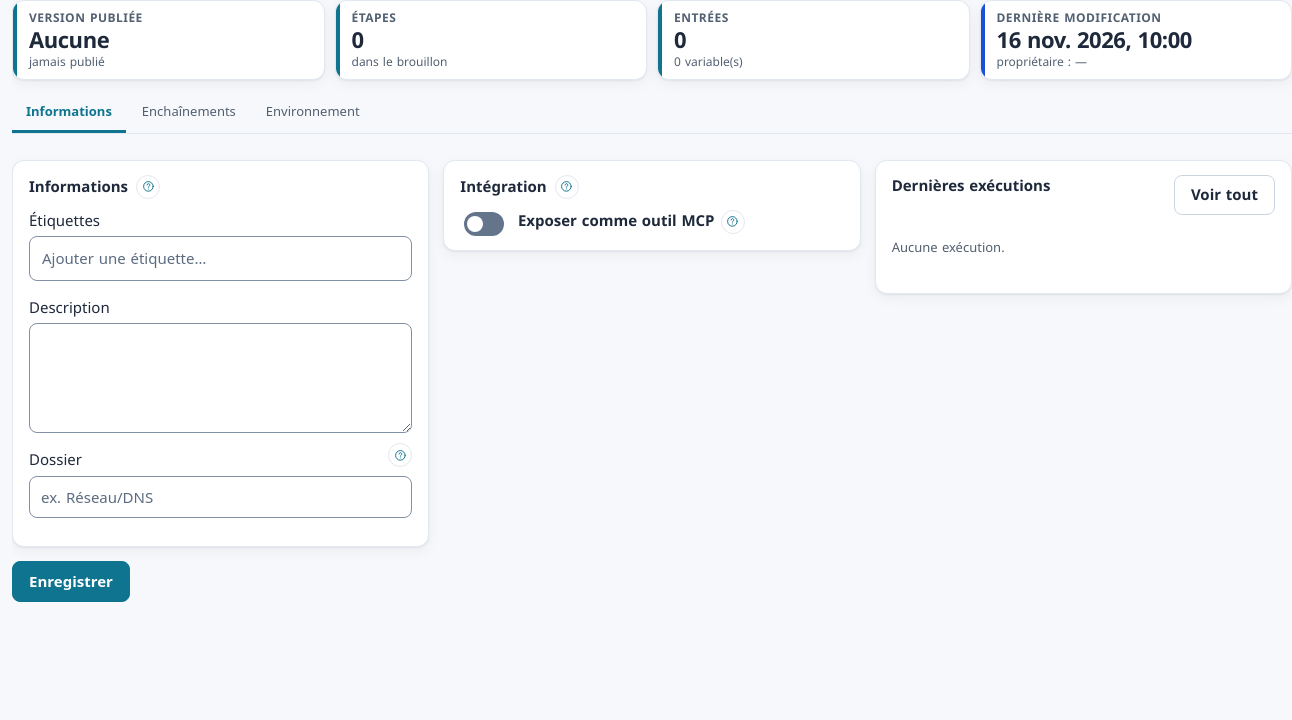
Test: Réglages d'un workflow : runner imposé › propose les runners utilisables (état, dédié ou partagé) et le choix automatique par défaut
Step 1. Click the tab "Environnement" → click(313, 114), box [252,94,374,133]
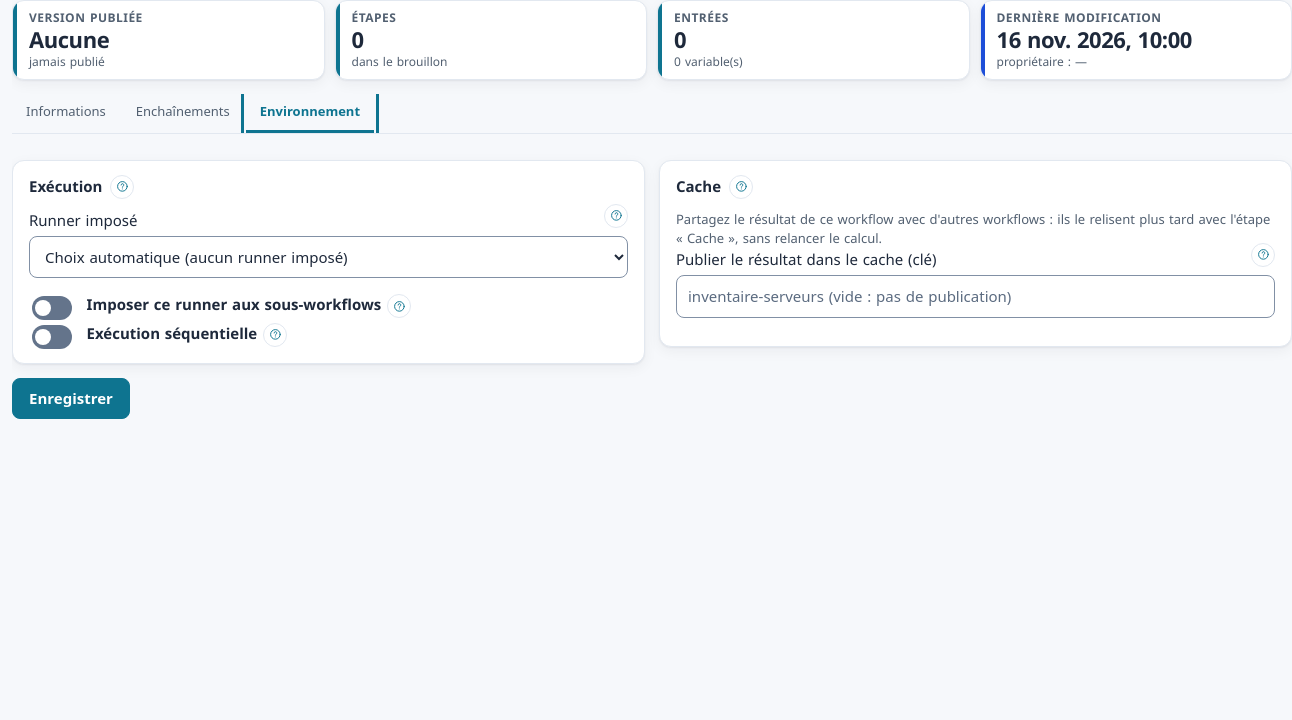
Now the dropdown labelled "Runner imposé" shows "Choix automatique (aucun runner imposé)", box [29,236,628,278]
Now the checkbox labelled "Imposer ce runner aux sous-workflows" is disabled, box [32,296,72,320]
